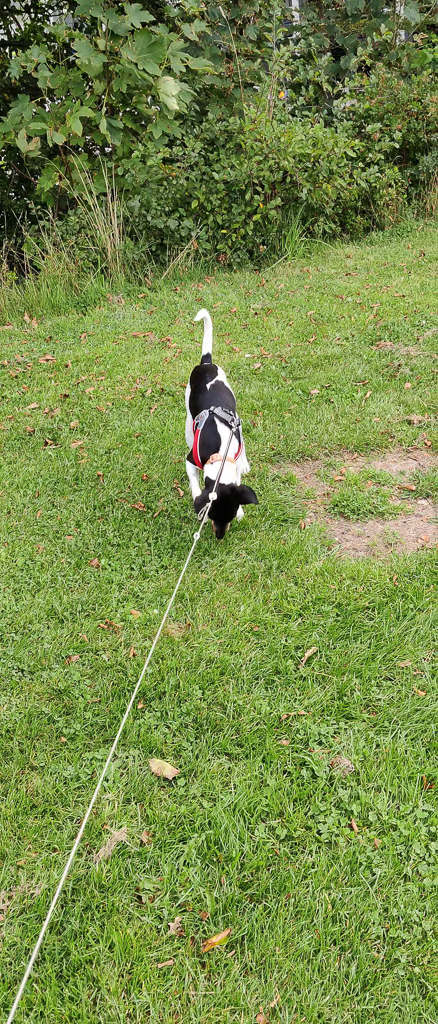Dog: (161, 291, 278, 567)
